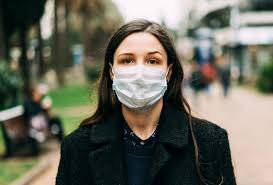mask: (101, 17, 192, 113)
